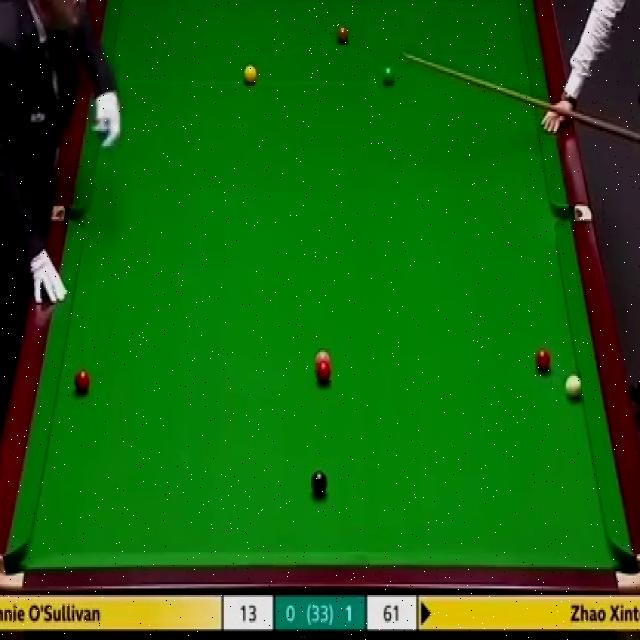black-ball: (309, 470, 330, 495)
brown-ball: (336, 25, 351, 47)
green-ball: (380, 63, 395, 86)
pink-ball: (314, 350, 330, 364)
red-ball: (535, 346, 551, 374), (74, 369, 89, 394), (316, 363, 331, 382)
white-ball: (564, 374, 583, 402)
yellow-ball: (242, 64, 257, 86)
